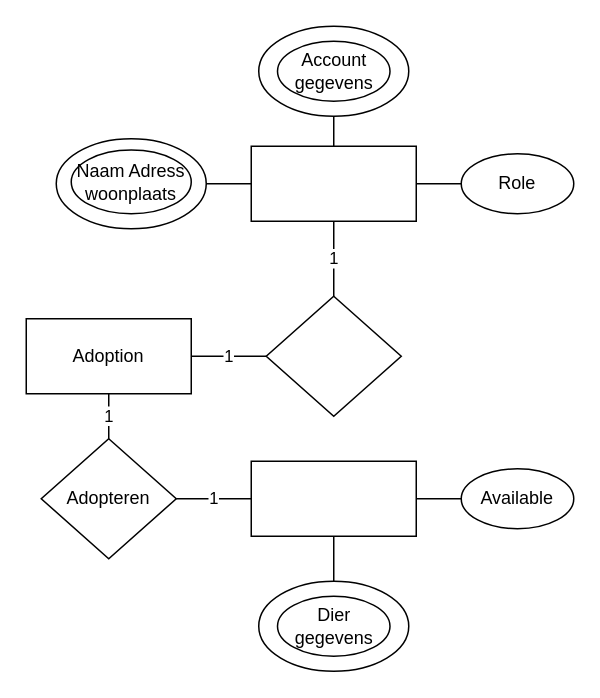
The diagram is 600 pixels wide and 698 high, and some of its shapes have lost their labels. The box of each missing label's shape, as (x1, y1, x2, y2) in pixels:
Account: (250, 145, 416, 221)
Afspraak plannen: (265, 295, 401, 416)
Animal: (250, 460, 416, 536)
